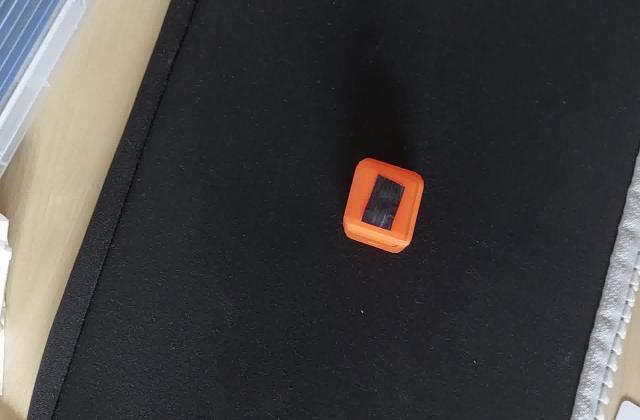black: (361, 174, 412, 220)
sticker: (338, 156, 426, 260)
